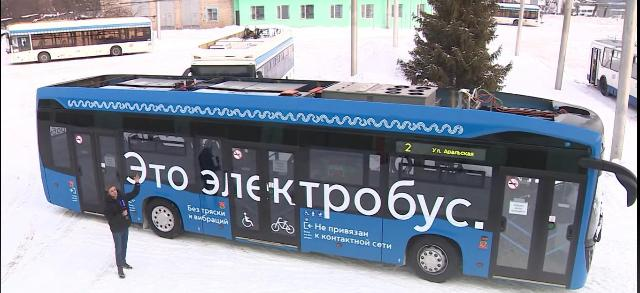bus: (34, 72, 638, 292), (2, 15, 161, 66), (178, 24, 298, 83), (582, 34, 639, 110), (477, 1, 541, 27)
